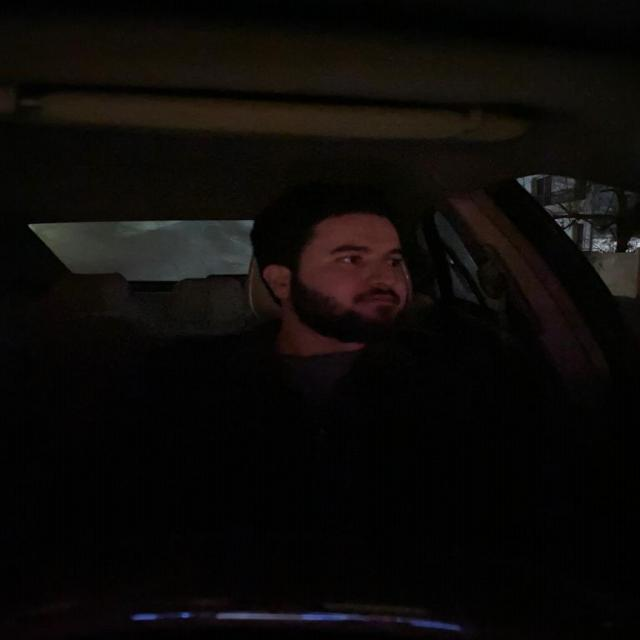LeftRight: (240, 185, 437, 372)
